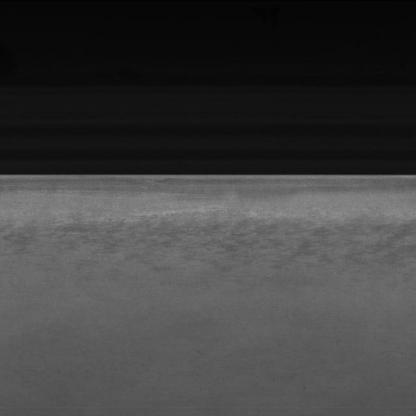silk_spot: (55, 213, 390, 276)
